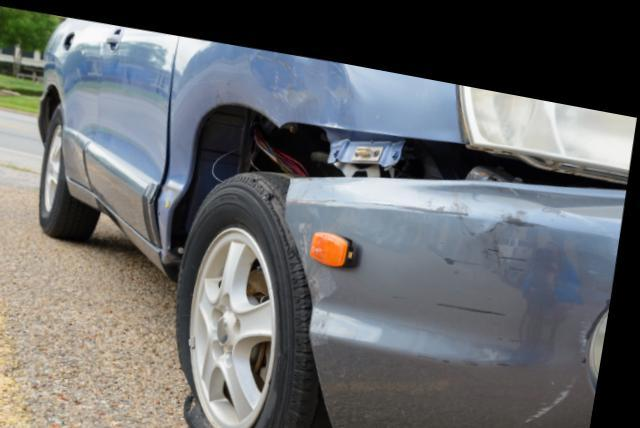dent: (251, 40, 349, 113)
dislocated part: (266, 112, 630, 428)
scratch: (375, 162, 623, 403)
tire flat: (183, 158, 351, 428)
